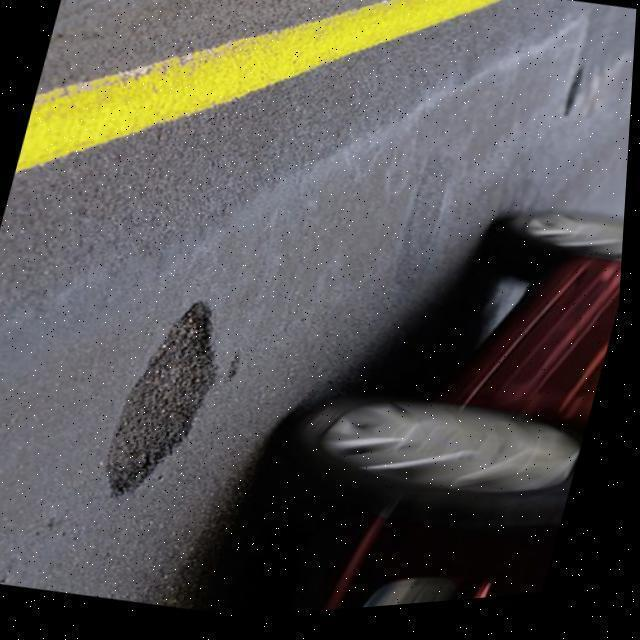Pothole: (108, 302, 214, 494), (564, 65, 582, 116)
